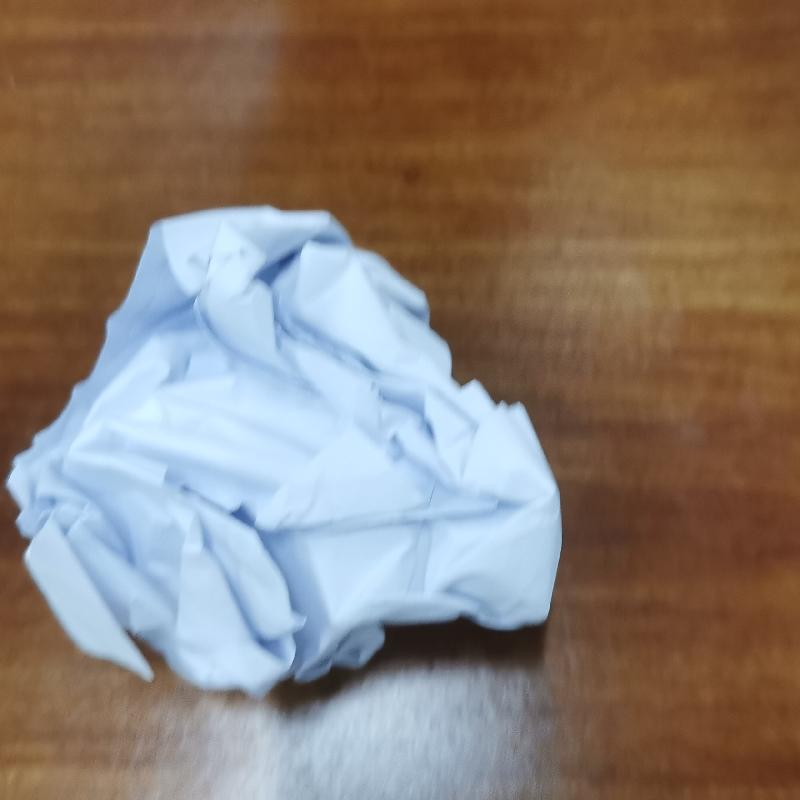spitball: (4, 202, 569, 706)
